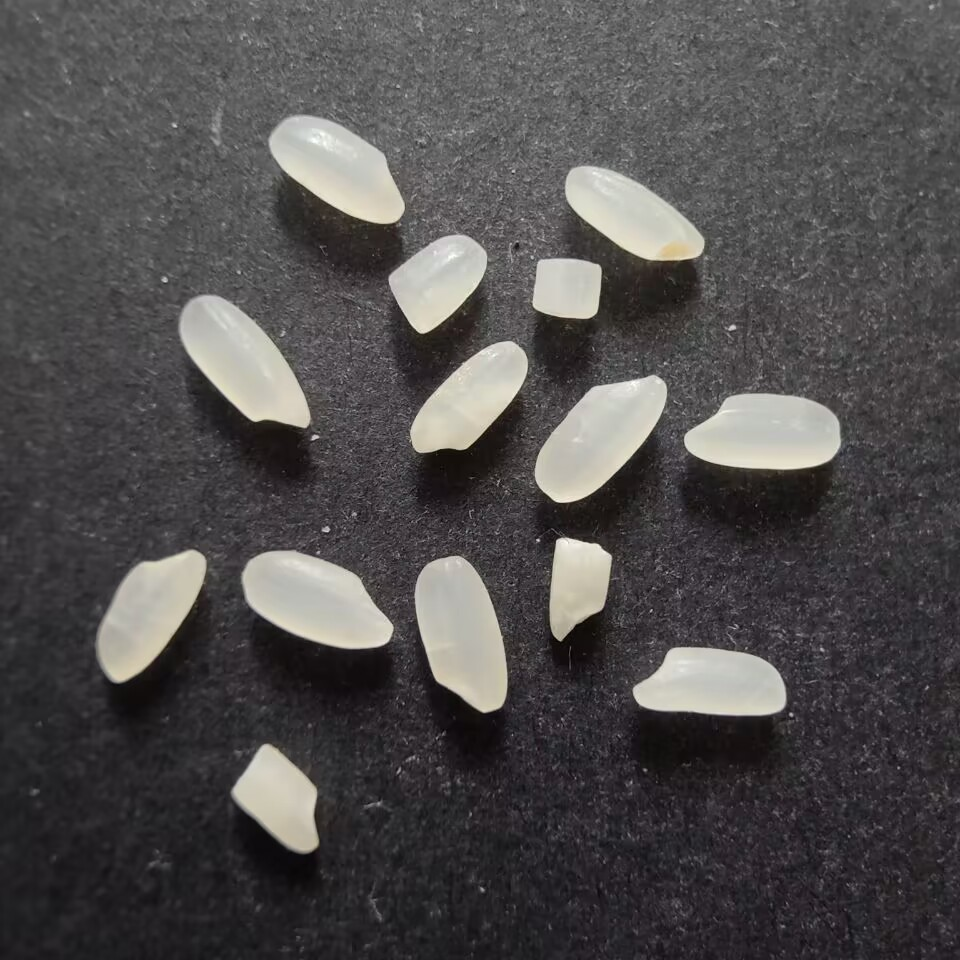broken: (228, 738, 329, 861), (387, 231, 492, 336), (543, 532, 615, 645), (531, 254, 605, 324)
rice: (177, 293, 312, 435), (532, 373, 669, 508), (409, 552, 513, 717), (238, 549, 398, 654), (267, 112, 407, 229), (93, 545, 208, 684), (561, 161, 708, 264), (406, 339, 530, 457), (680, 391, 847, 472), (625, 642, 790, 723)
